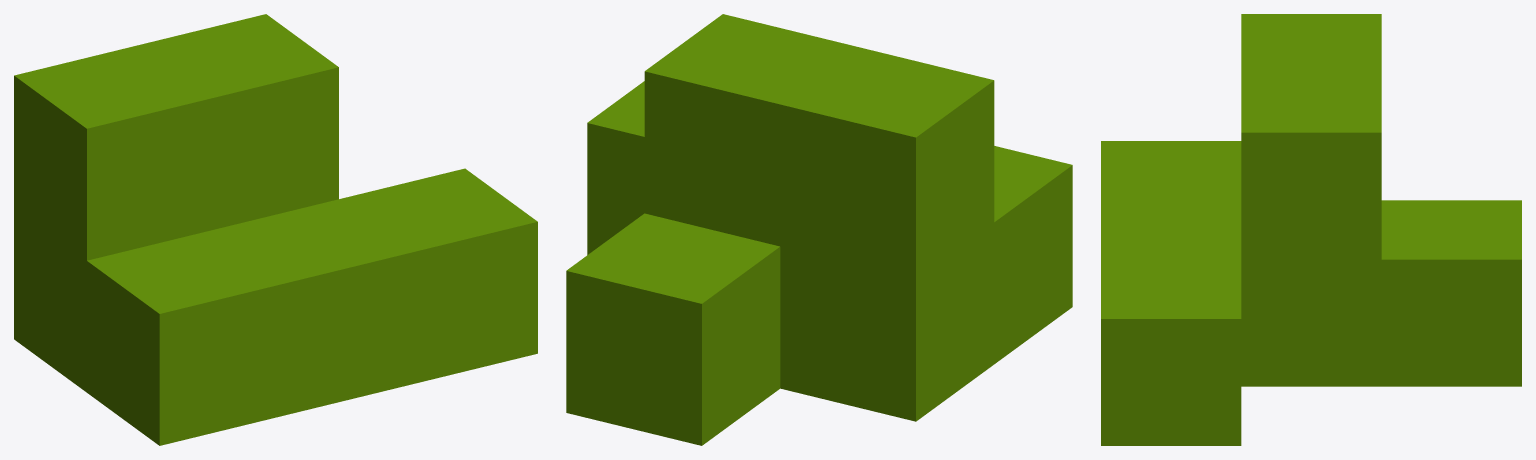
The model's file is bush2.obj.
3 renders of one model, left to right at view 1: azimuth 30°, elevation 25°; view 2: azimuth 150°, elevation 25°; view 3: azimuth 270°, elevation 25°, orthographic. The views are drawn at different scales.
Size of the model in its own units: 3 by 2 by 3.
1 material, 1 textured.
